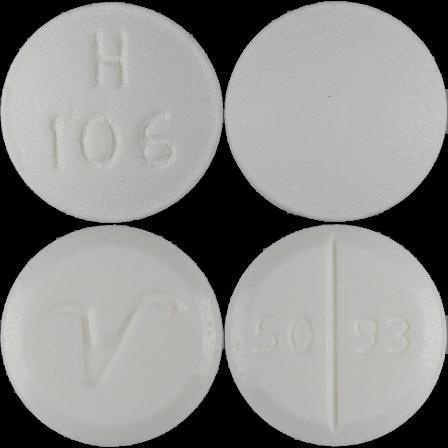49999-024: (0, 0, 224, 224)
